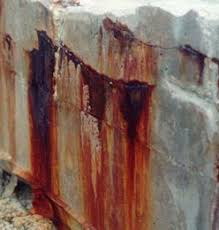rust: (85, 24, 152, 230), (24, 30, 64, 217), (56, 48, 160, 98), (177, 43, 211, 70)
